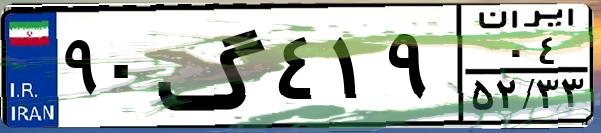0: (110, 28, 156, 98), (508, 27, 537, 80)
1: (330, 28, 385, 110)
2: (495, 70, 520, 125)
3: (560, 70, 590, 125), (535, 70, 560, 125)
4: (270, 28, 330, 110), (537, 27, 568, 80)
5: (470, 70, 495, 125)
9: (385, 28, 445, 110), (57, 26, 110, 100)
گ: (156, 12, 270, 120)
